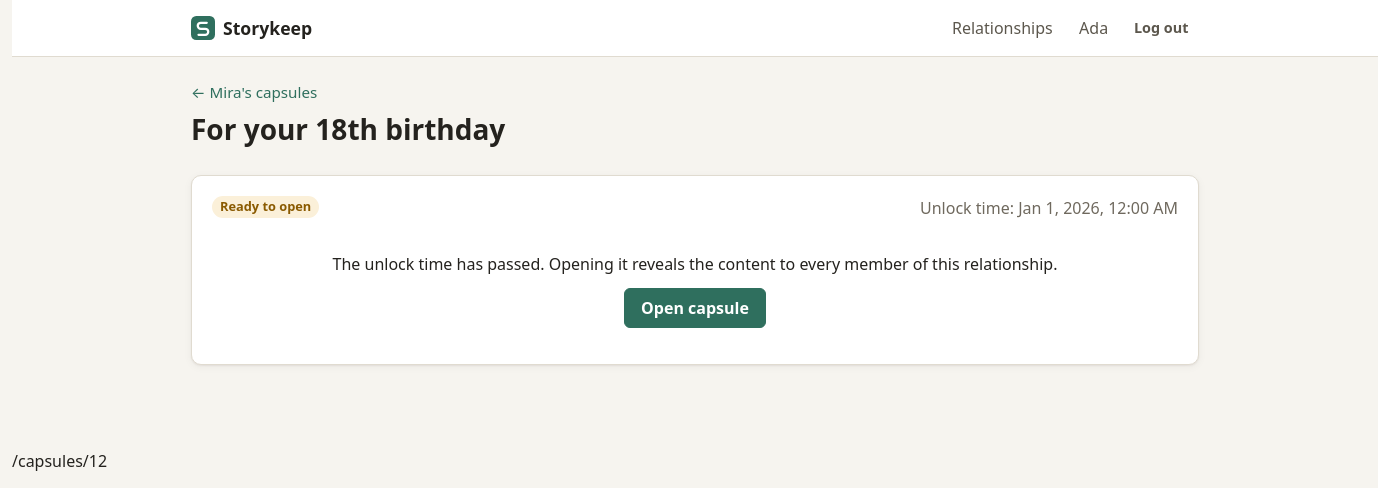
capsule page › opens an available capsule and then shows its message
Expected: the heading "For your 18th birthday" is shown, [191,112,505,147]
Expected: the text "Hello from the past" is not shown
Click the button "Open capsule" at {"x": 695, "y": 308}, box [624,288,766,328]
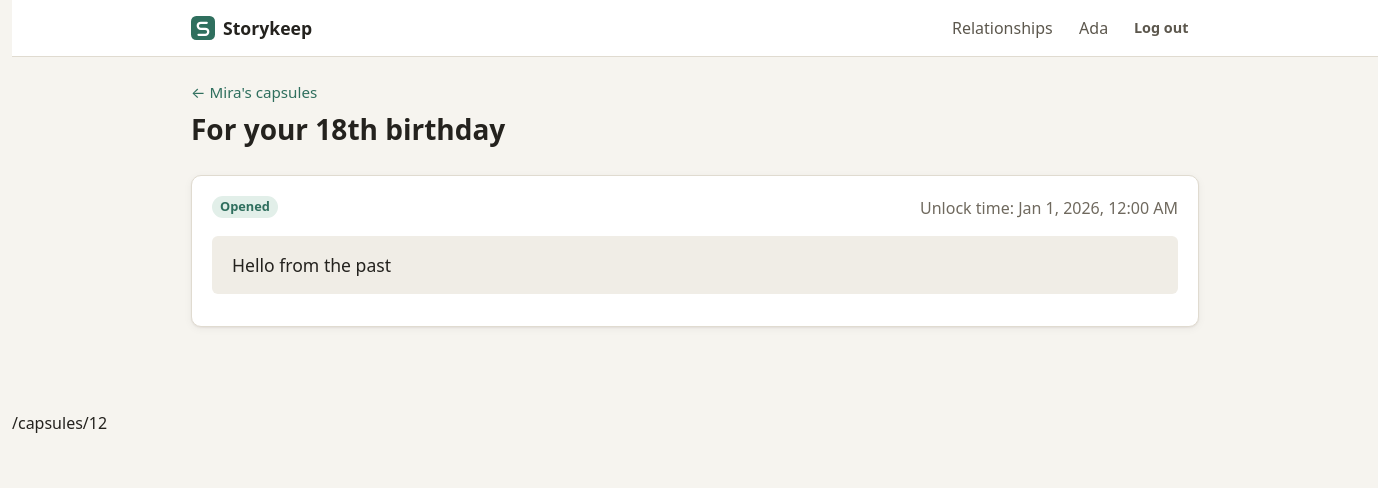
Expected: the text "Hello from the past" is shown, [212,236,1178,294]
